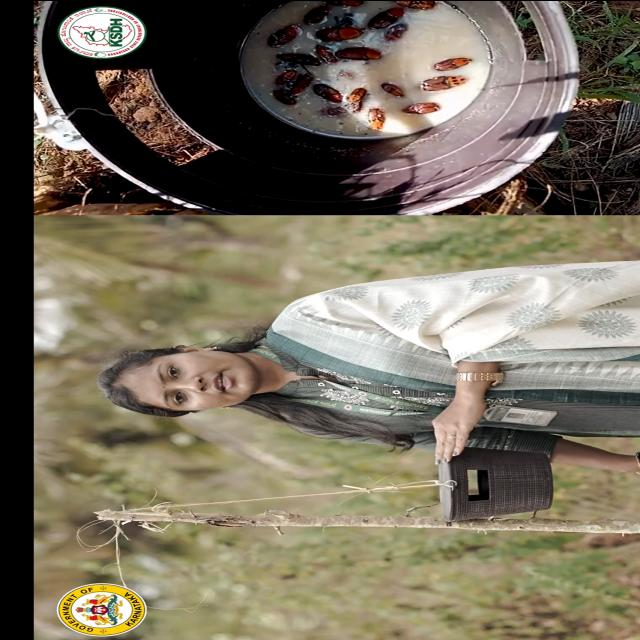Red-palm-weevil: (269, 68, 308, 100), (418, 74, 466, 94), (368, 2, 402, 30), (336, 43, 382, 61), (398, 101, 442, 119), (263, 24, 298, 46), (316, 23, 356, 42), (312, 81, 341, 105), (432, 54, 472, 70), (362, 108, 391, 130), (346, 86, 366, 110), (381, 81, 409, 97), (272, 51, 308, 62), (316, 44, 334, 64)
